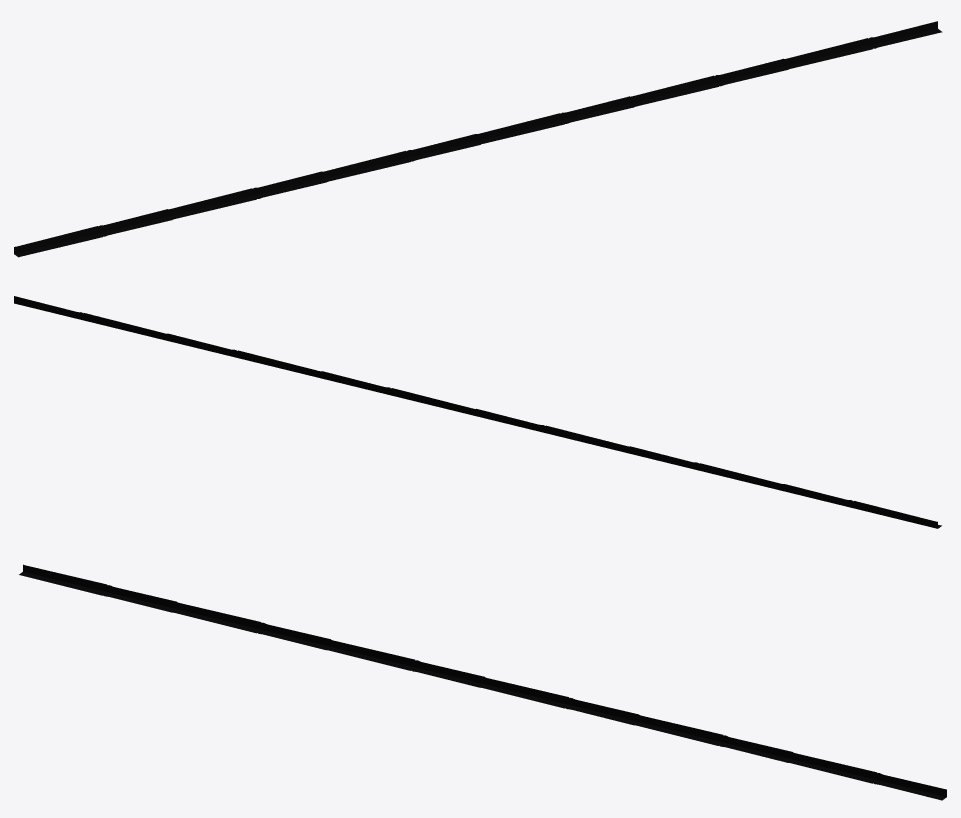
Rendered from table shadow.fbx.
3 views of the same model, one above another, from view 1: azimuth 30°, elevation 25°; view 2: azimuth 150°, elevation 25°; view 3: azimuth 330°, elevation 25° (orthographic).
Parts seen in each view (by area): view 1: table shadow; view 2: table shadow; view 3: table shadow.
Boxes of the visible parts, box(x1,y1,x2,y2) form: table shadow: box(14, 21, 942, 257); table shadow: box(14, 296, 941, 528); table shadow: box(19, 564, 946, 800).
Bounding box in the file's own units: 358 × 5.35 × 6.04.
Materials: 1 (1 with a texture image).
